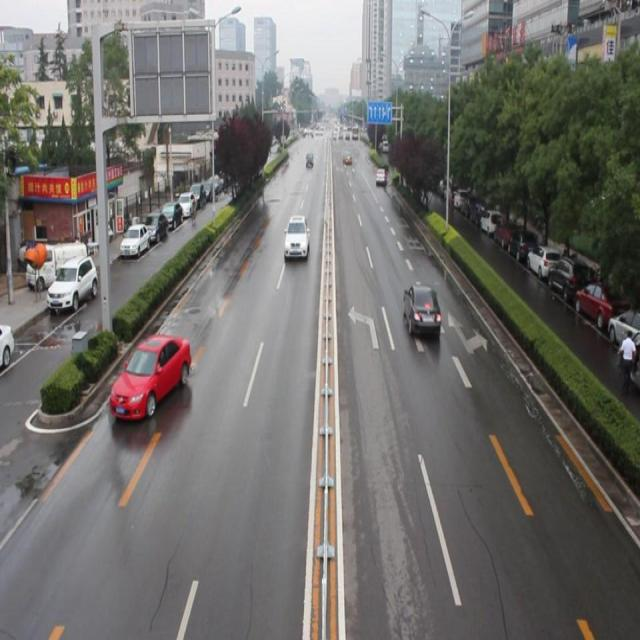car: (111, 335, 192, 416), (402, 282, 440, 334), (282, 214, 310, 260), (374, 164, 387, 188)
truck: (305, 152, 314, 167)
